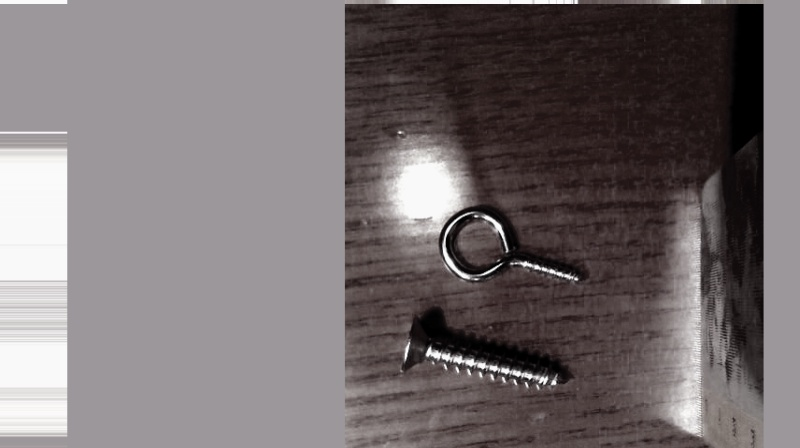O001: (437, 199, 591, 293)
S001: (398, 312, 576, 393)
